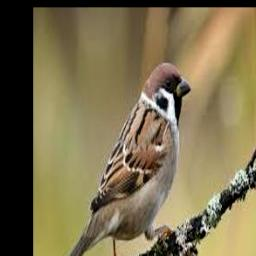Sparrow: (56, 63, 191, 256)
